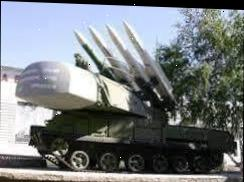rszo: (1, 11, 244, 182)
